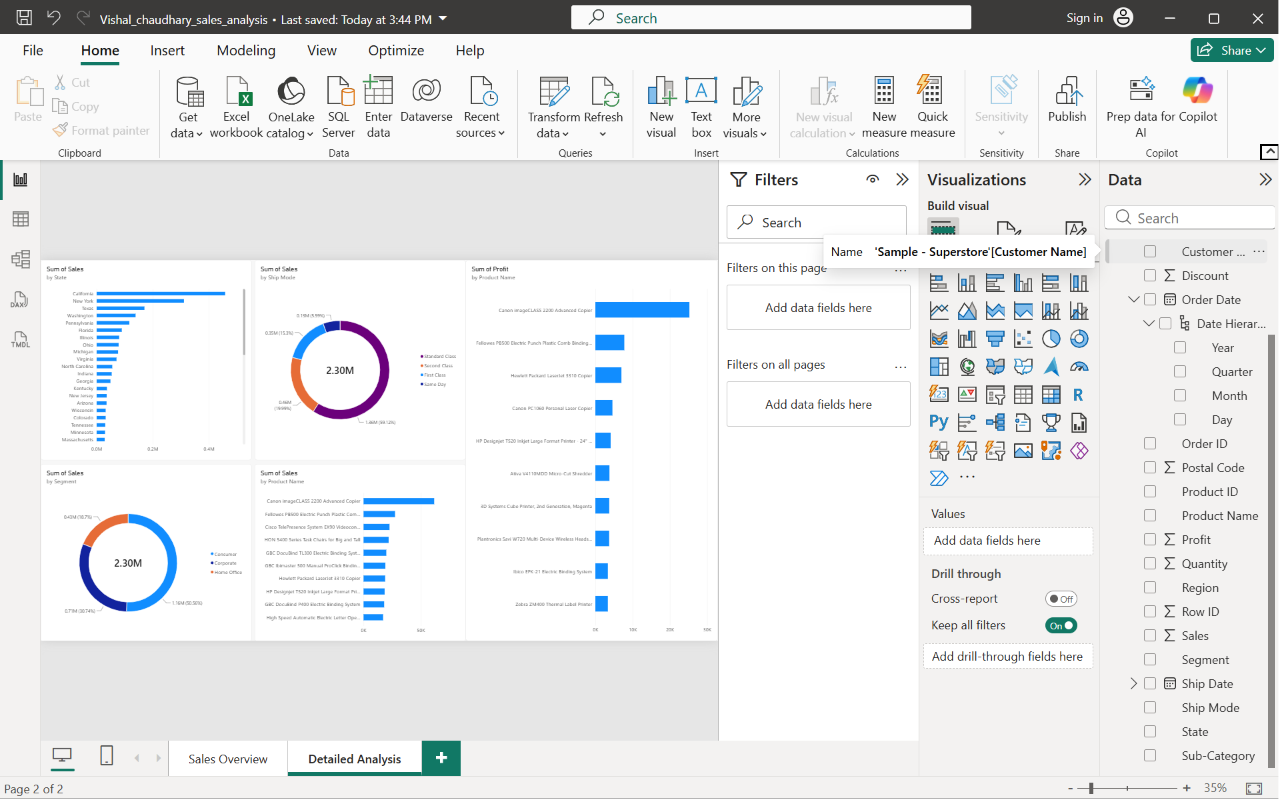

The dashboard page shown, as its layout file describes it:
{"tool":"powerbi","page":{"name":"Detailed Analysis","canvas":[1920,1080],"ordinal":1},"visuals":[{"type":"donutChart","fields":{"Category":["Sample - Superstore.Segment"],"Y":["Sum(Sample - Superstore.Sales)"]},"box":[0,577,598,503],"z":1},{"type":"donutChart","fields":{"Category":["Sample - Superstore.Ship Mode"],"Y":["Sum(Sample - Superstore.Sales)"]},"box":[608,0,598,567],"z":2},{"type":"barChart","fields":{"Category":["Sample - Superstore.Product Name"],"Y":["Sum(Sample - Superstore.Sales)"]},"box":[608,577,598,503],"z":3},{"type":"barChart","fields":{"Category":["Sample - Superstore.Product Name"],"Y":["Sum(Sample - Superstore.Profit)"]},"box":[1204.7,0,714.3,1080],"z":4},{"type":"barChart","fields":{"Category":["Sample - Superstore.State"],"Y":["Sum(Sample - Superstore.Sales)"]},"box":[0,0,598,567],"z":5},{"type":"textbox","box":[144.6,0,408.2,65.2],"z":7}]}

Visuals, with their boxes on the page's 1920x1080 design canvas (x1, y1, x2, y2). These are canvas units, not pixel positions in the 1279x799 screenshot, which may show the page scaled, cropped or inside an application window:
donutChart - Sample - Superstore.Segment x Sum(Sample - Superstore.Sales): (left=0, top=577, right=598, bottom=1080)
donutChart - Sample - Superstore.Ship Mode x Sum(Sample - Superstore.Sales): (left=608, top=0, right=1206, bottom=567)
barChart - Sample - Superstore.Product Name x Sum(Sample - Superstore.Sales): (left=608, top=577, right=1206, bottom=1080)
barChart - Sample - Superstore.Product Name x Sum(Sample - Superstore.Profit): (left=1205, top=0, right=1919, bottom=1080)
barChart - Sample - Superstore.State x Sum(Sample - Superstore.Sales): (left=0, top=0, right=598, bottom=567)
textbox: (left=145, top=0, right=553, bottom=65)
